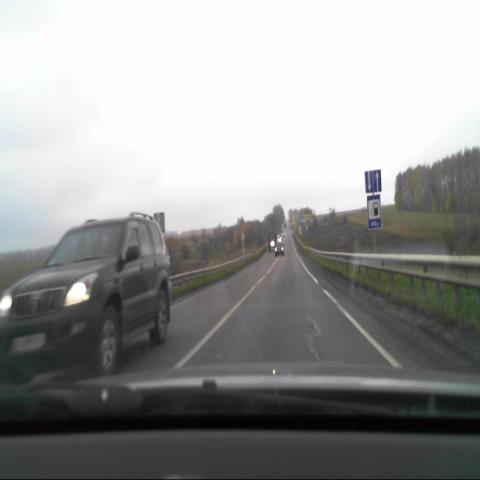5_15_7: (364, 168, 382, 194)
